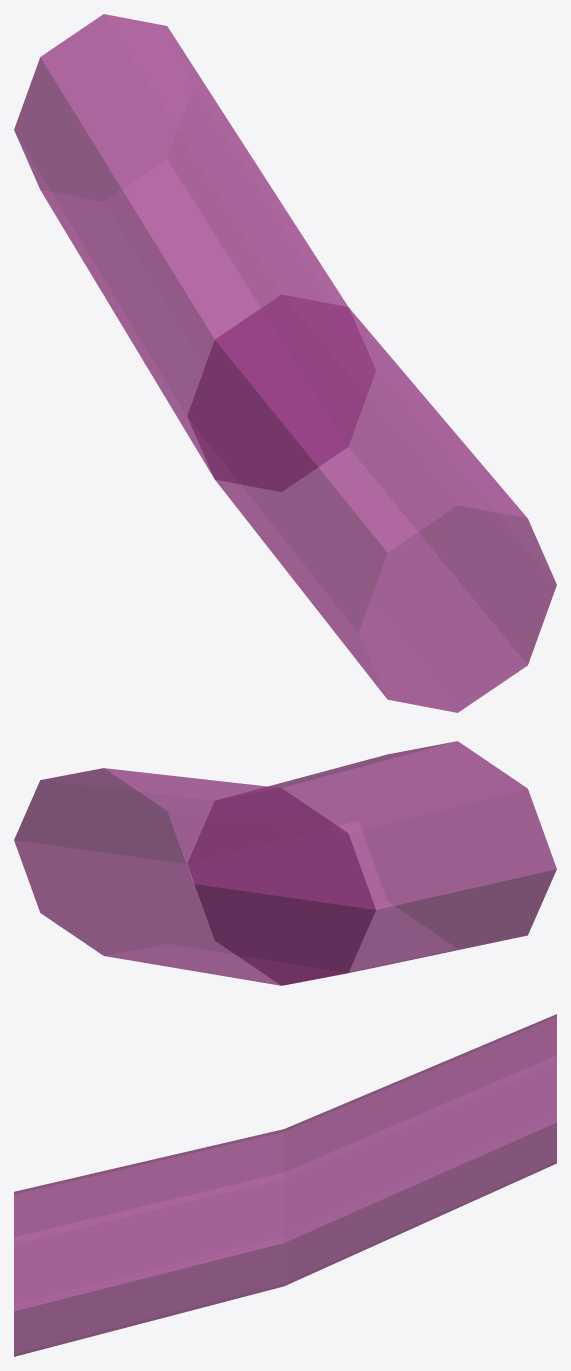
Rendered from SM_Bld_Roof_Edge_Small_Trim_End_01_Collision_01.fbx.
The picture shows the model from 3 angles, top to bottom: view 1: azimuth 30°, elevation 25°; view 2: azimuth 150°, elevation 25°; view 3: azimuth 270°, elevation 25°; orthographic projection. The views are drawn at different scales.
Parts seen in each view (by area): view 1: SM_Bld_Roof_Edge_Small_Trim_End_01_Collision_01; view 2: SM_Bld_Roof_Edge_Small_Trim_End_01_Collision_01; view 3: SM_Bld_Roof_Edge_Small_Trim_End_01_Collision_01.
Boxes of the visible parts, x1,y1,x2,y2 form: SM_Bld_Roof_Edge_Small_Trim_End_01_Collision_01: [14, 14, 556, 712]; SM_Bld_Roof_Edge_Small_Trim_End_01_Collision_01: [14, 741, 556, 985]; SM_Bld_Roof_Edge_Small_Trim_End_01_Collision_01: [14, 1014, 556, 1356].
Bounding box in the file's own units: 43.59 × 92.31 × 135.
